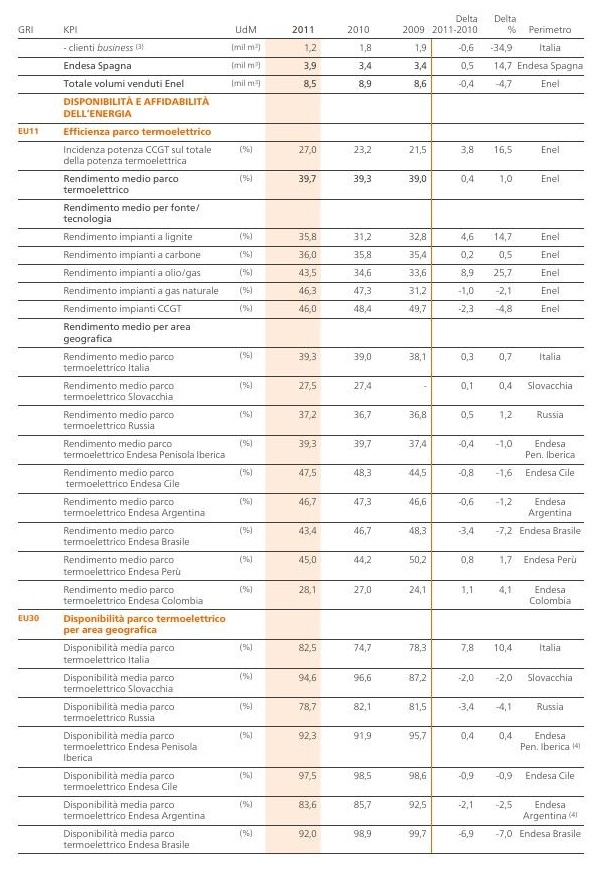table: (0, 0, 606, 871)
